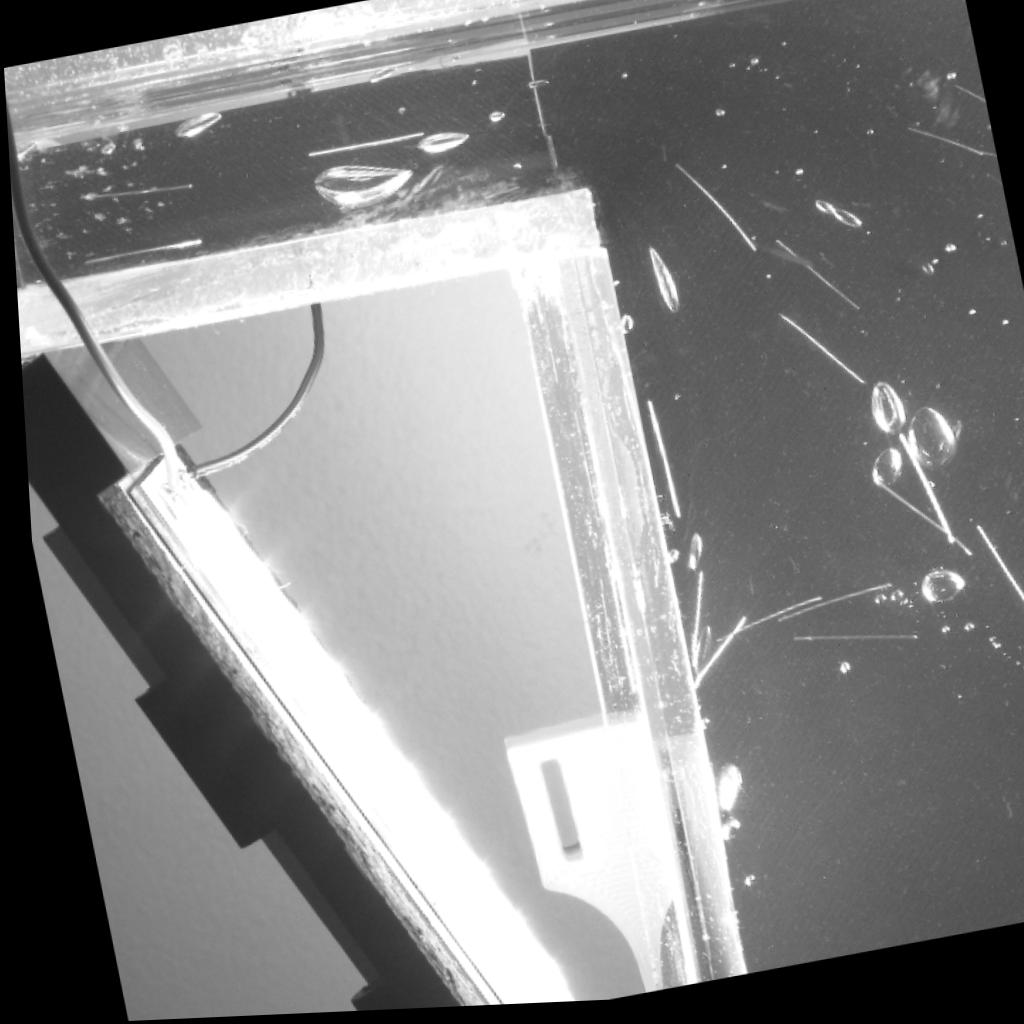Fiber: (670, 162, 757, 266), (865, 485, 968, 572), (769, 315, 862, 396), (768, 243, 858, 325), (888, 437, 950, 553), (965, 527, 1024, 635), (758, 585, 889, 633), (702, 598, 816, 649), (635, 400, 678, 530), (679, 617, 738, 696), (299, 133, 426, 166), (77, 233, 202, 264), (900, 133, 989, 172), (75, 182, 192, 202), (679, 573, 699, 674), (779, 638, 912, 649), (949, 84, 985, 120), (1008, 594, 1024, 611)
